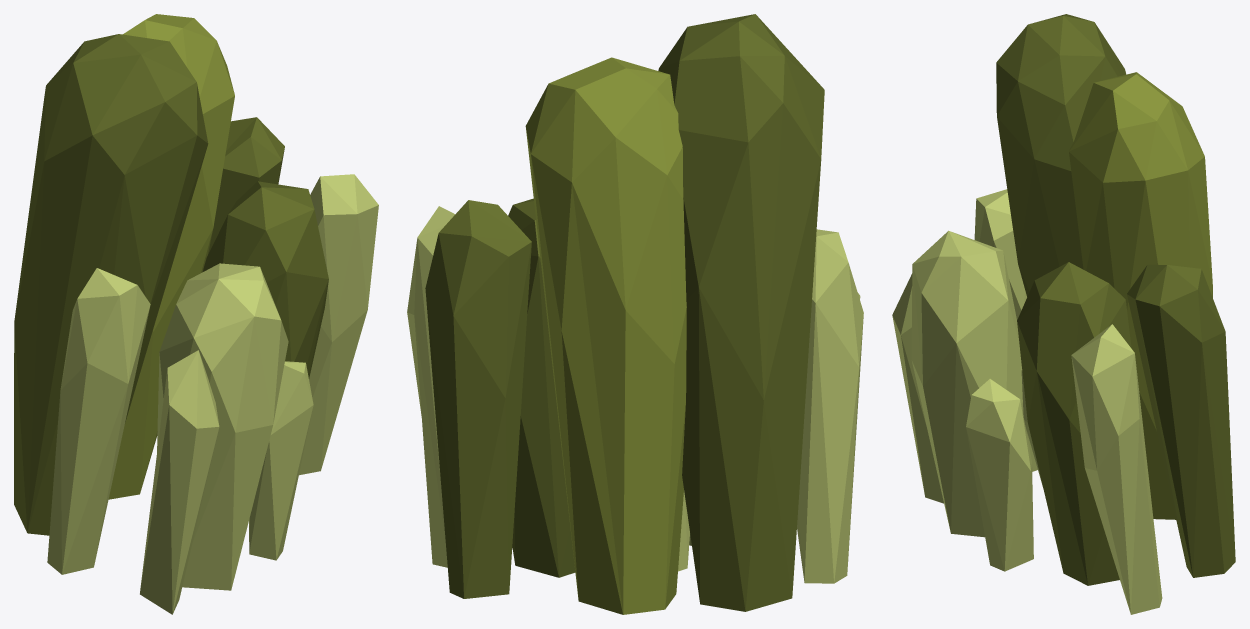
The model's file is ea_swamp_grass_01f_pre__11__lev1.glb.
3 renders of one model, left to right at view 1: azimuth 30°, elevation 25°; view 2: azimuth 150°, elevation 25°; view 3: azimuth 270°, elevation 25°, orthographic. The views are drawn at different scales.
Parts seen in each view (by area): view 1: ea_swamp_grass_01f_pre__11__lev1; view 2: ea_swamp_grass_01f_pre__11__lev1; view 3: ea_swamp_grass_01f_pre__11__lev1.
Part boxes in pixels (x1,y1,x2,y2): ea_swamp_grass_01f_pre__11__lev1: (14, 14, 378, 614); ea_swamp_grass_01f_pre__11__lev1: (407, 14, 863, 614); ea_swamp_grass_01f_pre__11__lev1: (892, 14, 1235, 614).
Size of the model in its own units: 1.49 by 2.08 by 1.31.
1 material, 1 textured.
